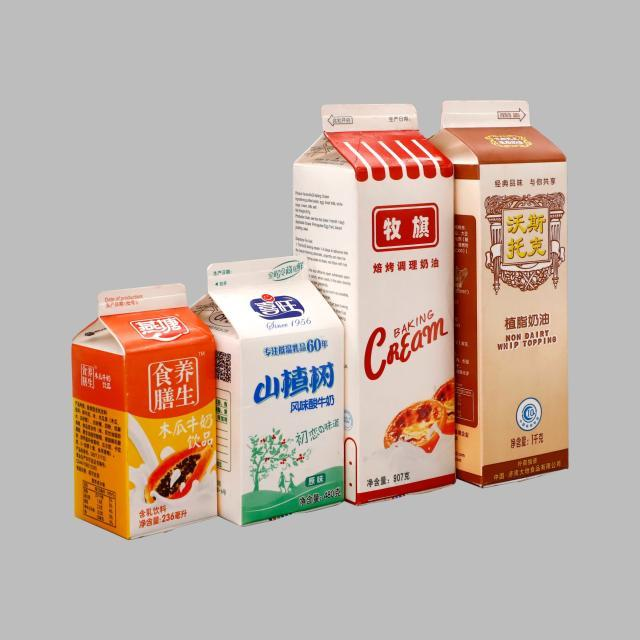Carton: (283, 75, 460, 515), (424, 91, 570, 497), (172, 248, 346, 558), (66, 276, 217, 554)
